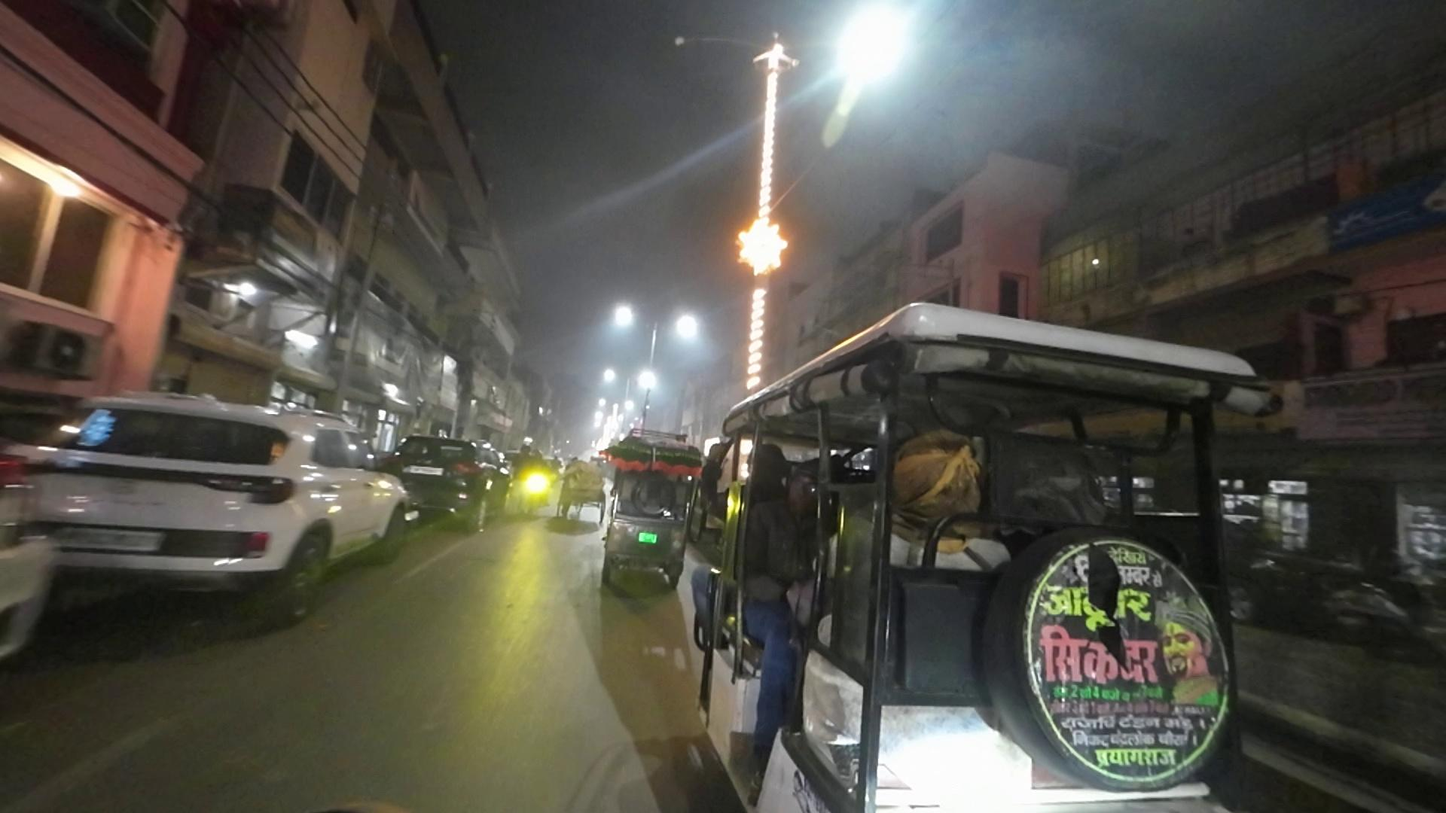streetlight: (670, 31, 762, 58)
